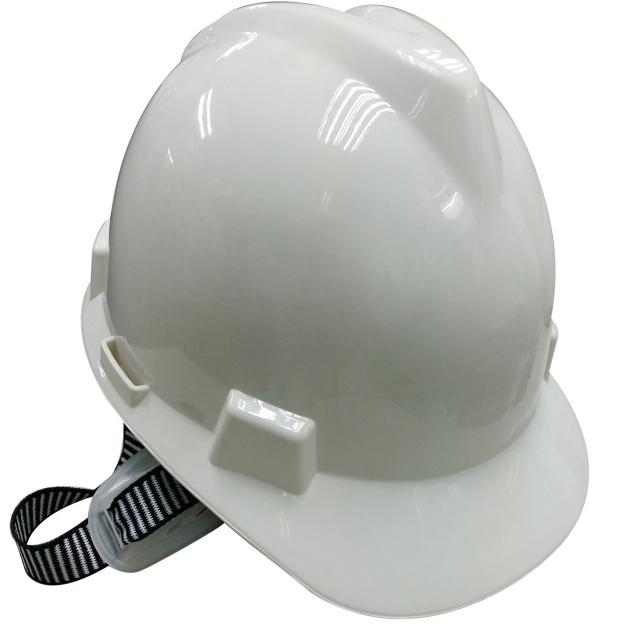helmet: (75, 1, 587, 640)
